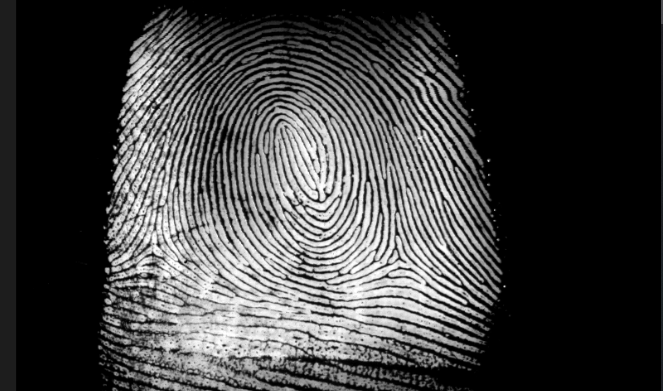deltas: (372, 228, 421, 283), (127, 227, 179, 272)
nucleo: (270, 107, 320, 171)
